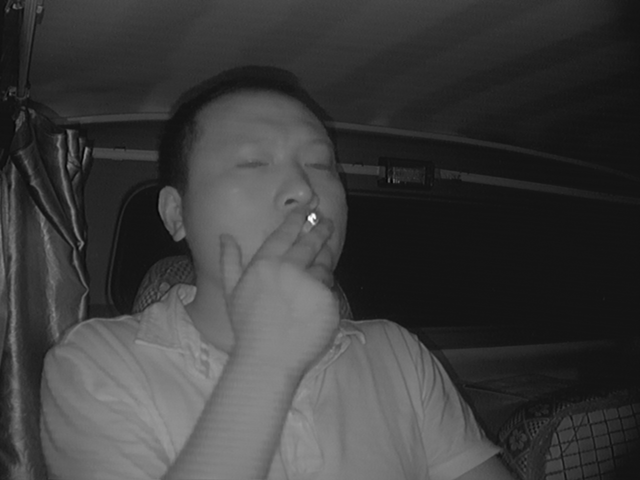hand: (231, 208, 340, 328)
